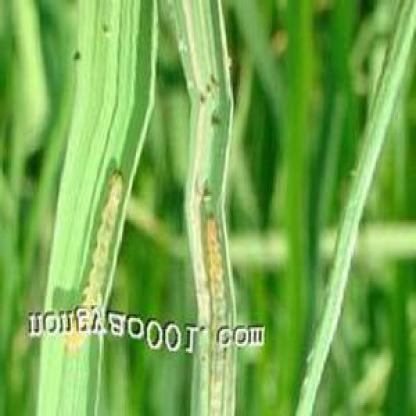leaf-folder: (182, 179, 244, 315), (78, 156, 131, 289)
